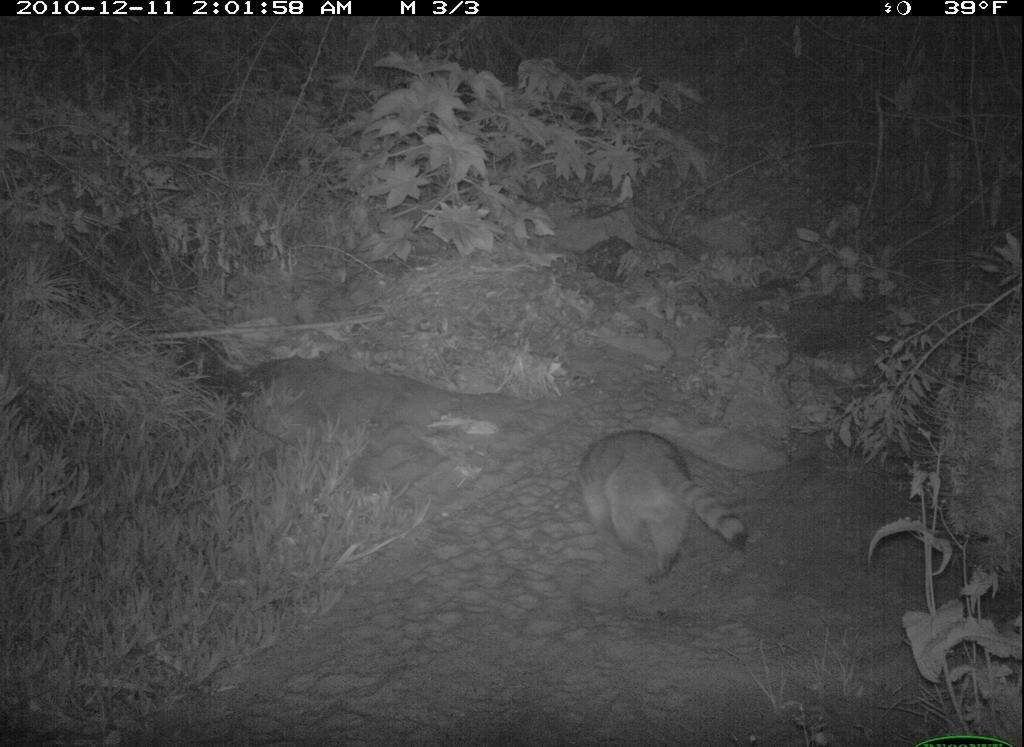raccoon: (553, 420, 766, 593)
